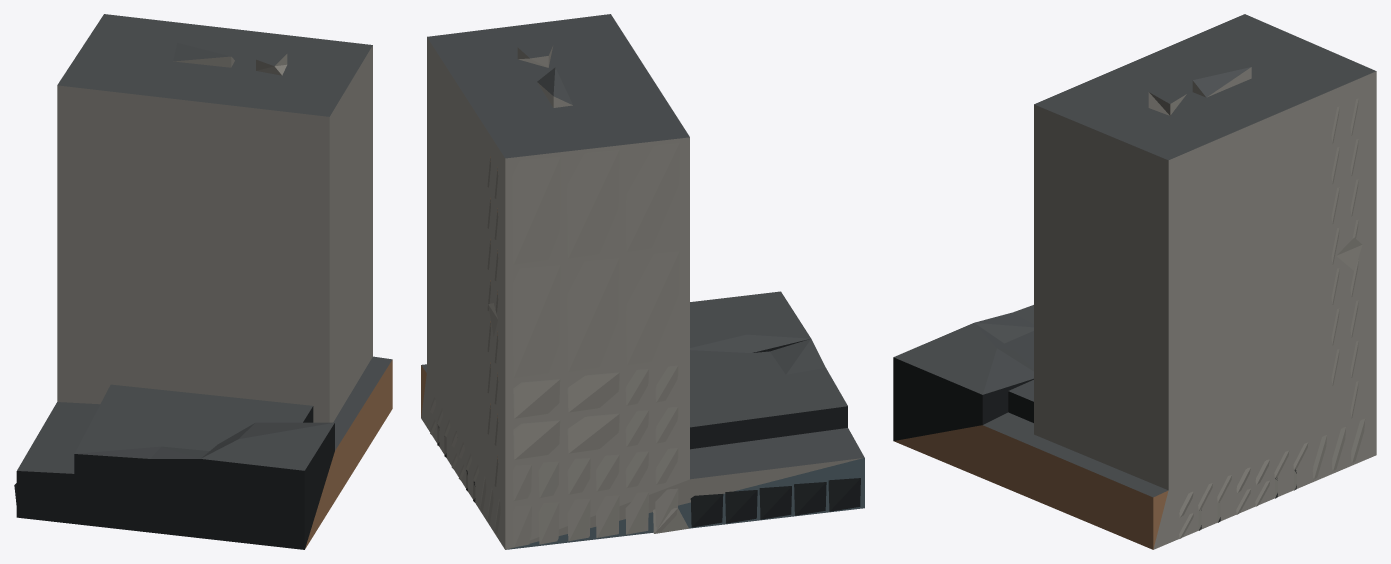
The model's file is voc-kade-600.lod2.glb.
3 renders of one model, left to right at view 1: azimuth 30°, elevation 25°; view 2: azimuth 150°, elevation 25°; view 3: azimuth 270°, elevation 25°, orthographic. The views are drawn at different scales.
Visible parts, largest first — view 1: lod2; view 2: lod2; view 3: lod2.
Part boxes in pixels (x1,y1,x2,y2): lod2: (14, 14, 392, 549); lod2: (421, 14, 864, 549); lod2: (893, 14, 1376, 549).
Size of the model in its own units: 58.88 by 53.44 by 59.12.
